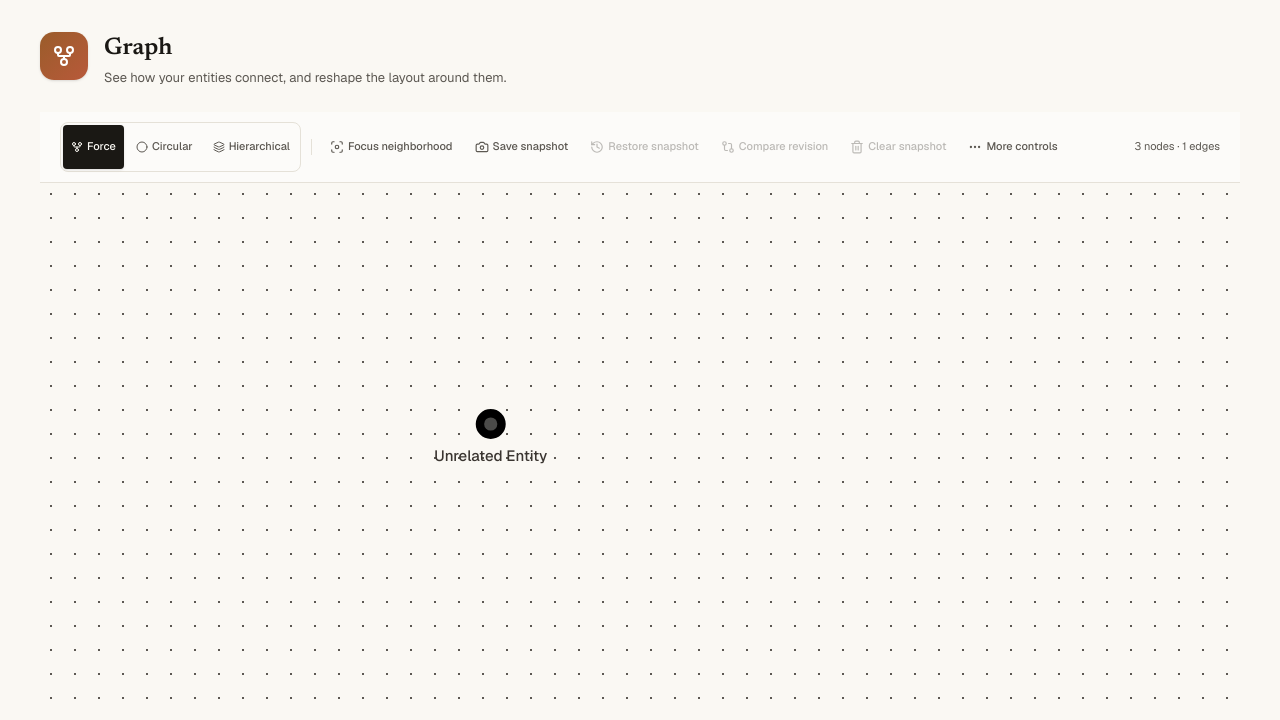
Scenario: GraphView › renders undo and redo buttons behind More controls
Step 1. Click the button labelled "More controls" → point(1013, 146), box 960,124 -> 1066,168
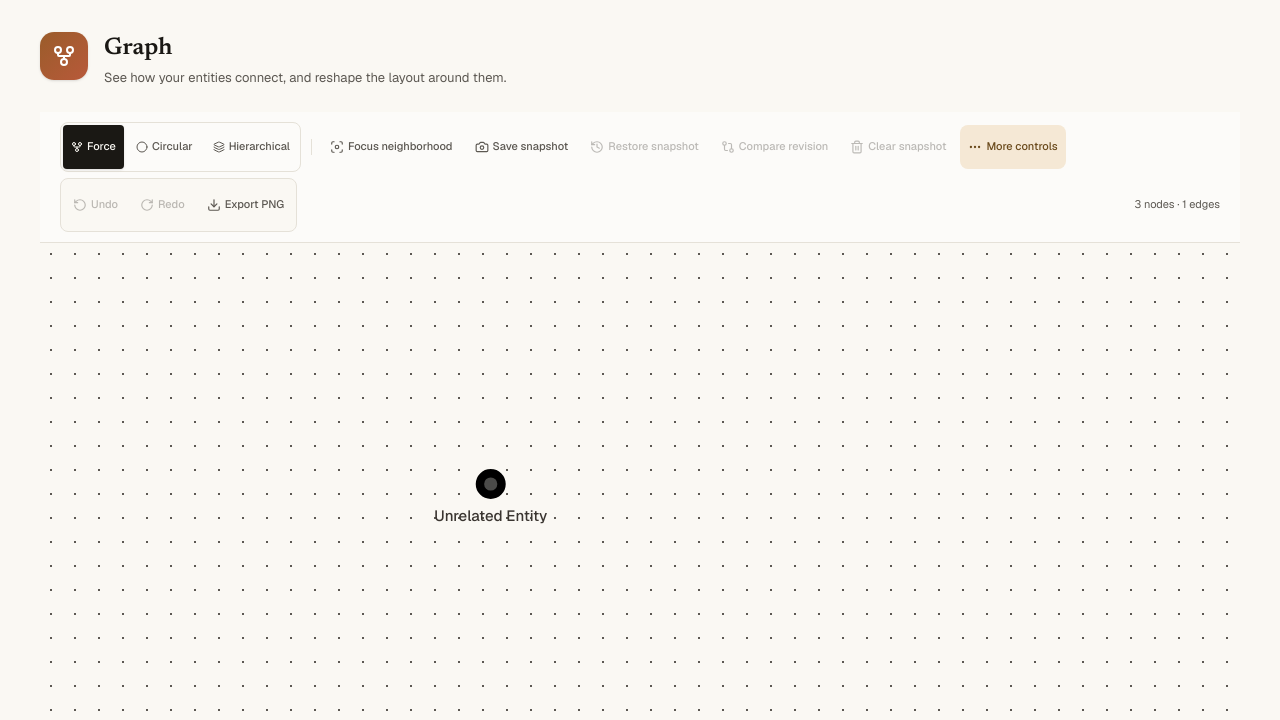
Result: the button labelled "Undo" is shown at 65,182 -> 126,226
Result: the button labelled "Redo" is shown at 132,182 -> 193,226
